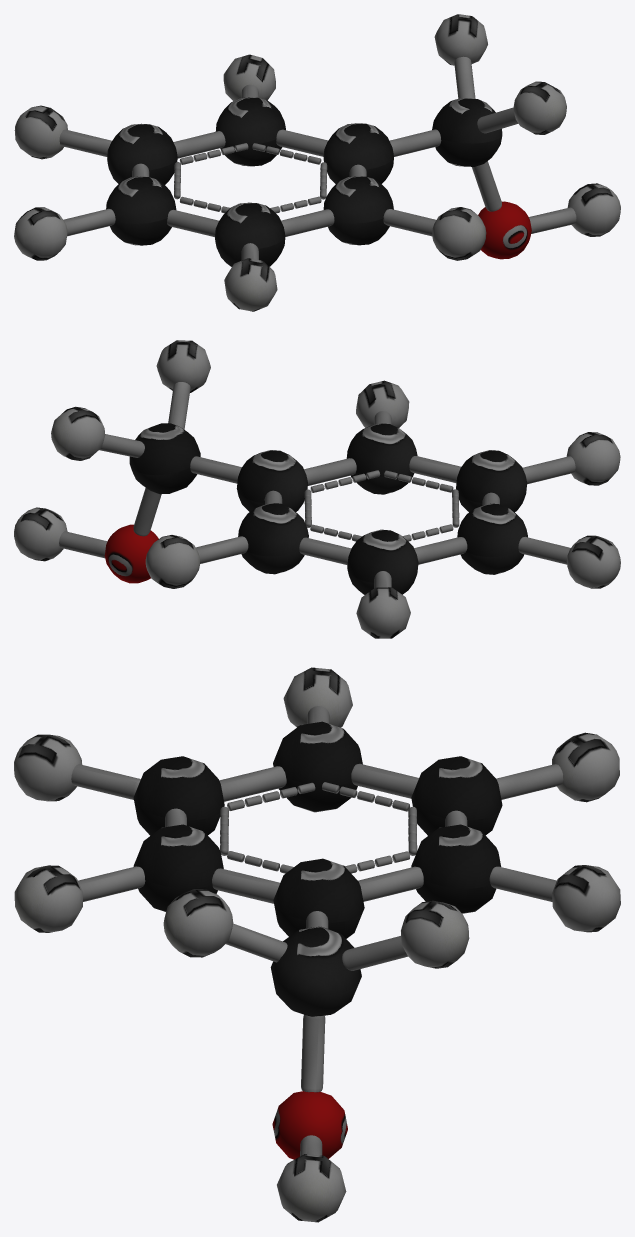
The model's file is Phenylmethanol.gltf.
The picture shows the model from 3 angles, top to bottom: view 1: azimuth 30°, elevation 25°; view 2: azimuth 150°, elevation 25°; view 3: azimuth 270°, elevation 25°; orthographic projection. The views are drawn at different scales.
Visible parts, largest first — view 1: C_Atom_012, C_Atom_010, C_Atom_017, C_Atom_09, C_Atom_07, C_Atom_011, C_Atom_08, C_Atom_013, H_Atom_07, H_Atom_019, H_Atom_017, H_Atom_012 (+17 smaller); view 2: C_Atom_09, C_Atom_012, C_Atom_017, C_Atom_010, C_Atom_08, C_Atom_07, C_Atom_011, H_Atom_09, H_Atom_019, H_Atom_018, dot_Symbol1, H_Atom_010 (+17 smaller); view 3: C_Atom_017, C_Atom_09, C_Atom_012, C_Atom_08, C_Atom_011, C_Atom_010, C_Atom_07, H_Atom_017, C_Atom_013, H_Atom_018, H_Atom_07, H_Atom_09 (+16 smaller).
Boxes of the visible parts, box(x1,y1,x2,y2) form: C_Atom_012: box(106, 176, 176, 245); C_Atom_010: box(323, 176, 393, 245); C_Atom_017: box(432, 98, 502, 166); C_Atom_09: box(215, 97, 285, 166); C_Atom_07: box(215, 202, 285, 266); C_Atom_011: box(323, 123, 393, 183); C_Atom_08: box(107, 123, 177, 184); C_Atom_013: box(478, 201, 531, 259); H_Atom_07: box(432, 207, 486, 260); H_Atom_019: box(14, 207, 67, 260); H_Atom_017: box(513, 81, 566, 134); H_Atom_012: box(224, 258, 277, 311); C_Atom_09: box(238, 503, 308, 574); C_Atom_012: box(457, 503, 527, 574); C_Atom_017: box(129, 423, 200, 494); C_Atom_010: box(346, 423, 417, 494); C_Atom_08: box(347, 529, 418, 594); C_Atom_07: box(456, 450, 527, 512); C_Atom_011: box(236, 450, 307, 511); H_Atom_09: box(145, 535, 199, 588); H_Atom_019: box(566, 535, 620, 588); H_Atom_018: box(51, 406, 105, 460); dot_Symbol1: box(304, 470, 459, 541); H_Atom_010: box(356, 587, 410, 638); C_Atom_017: box(270, 926, 361, 1016); C_Atom_09: box(411, 824, 501, 913); C_Atom_012: box(273, 721, 362, 812); C_Atom_08: box(411, 756, 502, 835); C_Atom_011: box(273, 858, 364, 938); C_Atom_010: box(133, 824, 223, 911); C_Atom_07: box(133, 756, 224, 835); H_Atom_017: box(163, 889, 233, 957); C_Atom_013: box(272, 1091, 347, 1159); H_Atom_018: box(401, 900, 469, 968); H_Atom_07: box(14, 865, 82, 932); H_Atom_09: box(552, 865, 620, 932).
Size of the model in its own units: 2.04 by 0.6679 by 1.39.
4 materials, 4 textured.
